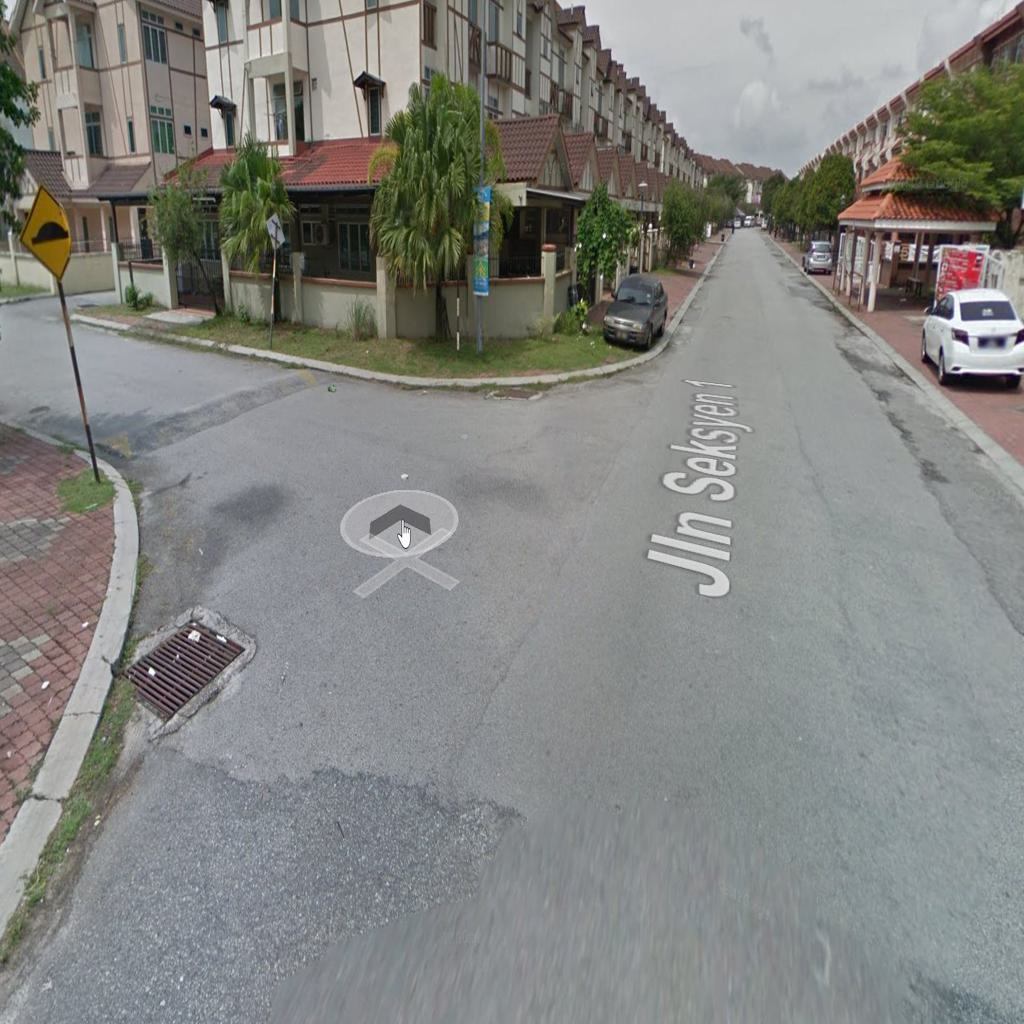Junction: (9, 287, 569, 679)
